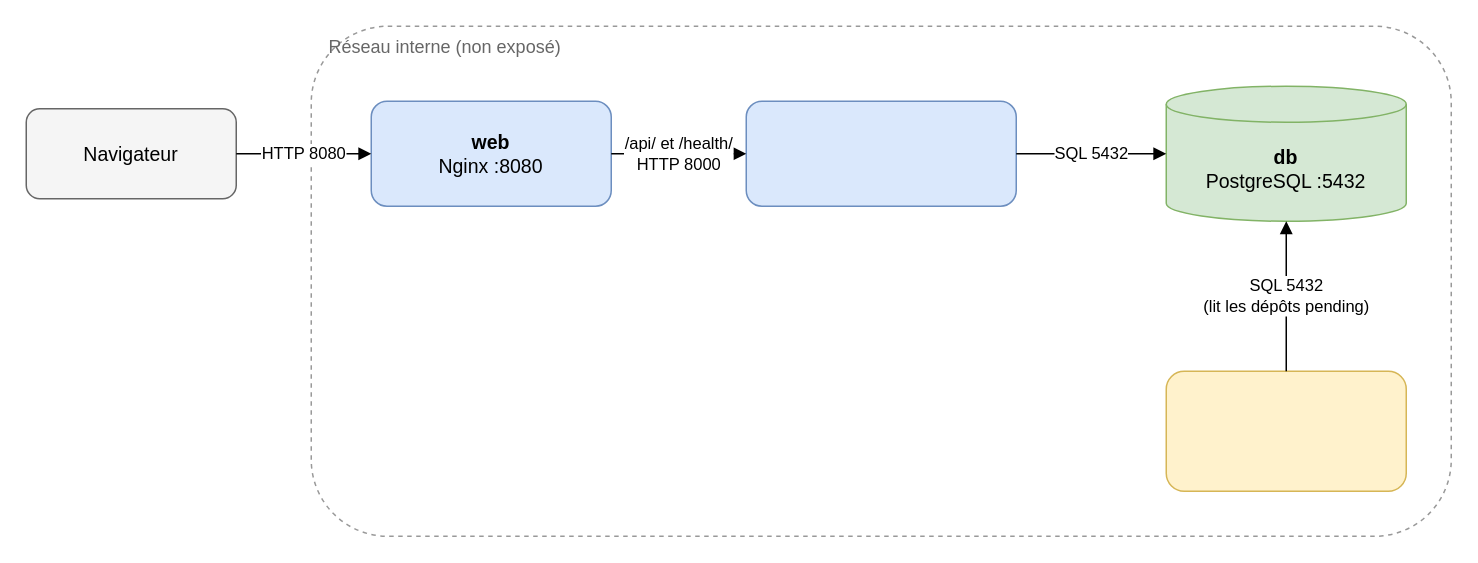
This 1478x563 diagram has some shape labels left out. Here are the shapes that lost their labels. From the top down, the centre of each, then its label:
the point at 880,153: api FastAPI / Uvicorn :8000
the point at 1285,430: worker python -m app.worker aucun port
